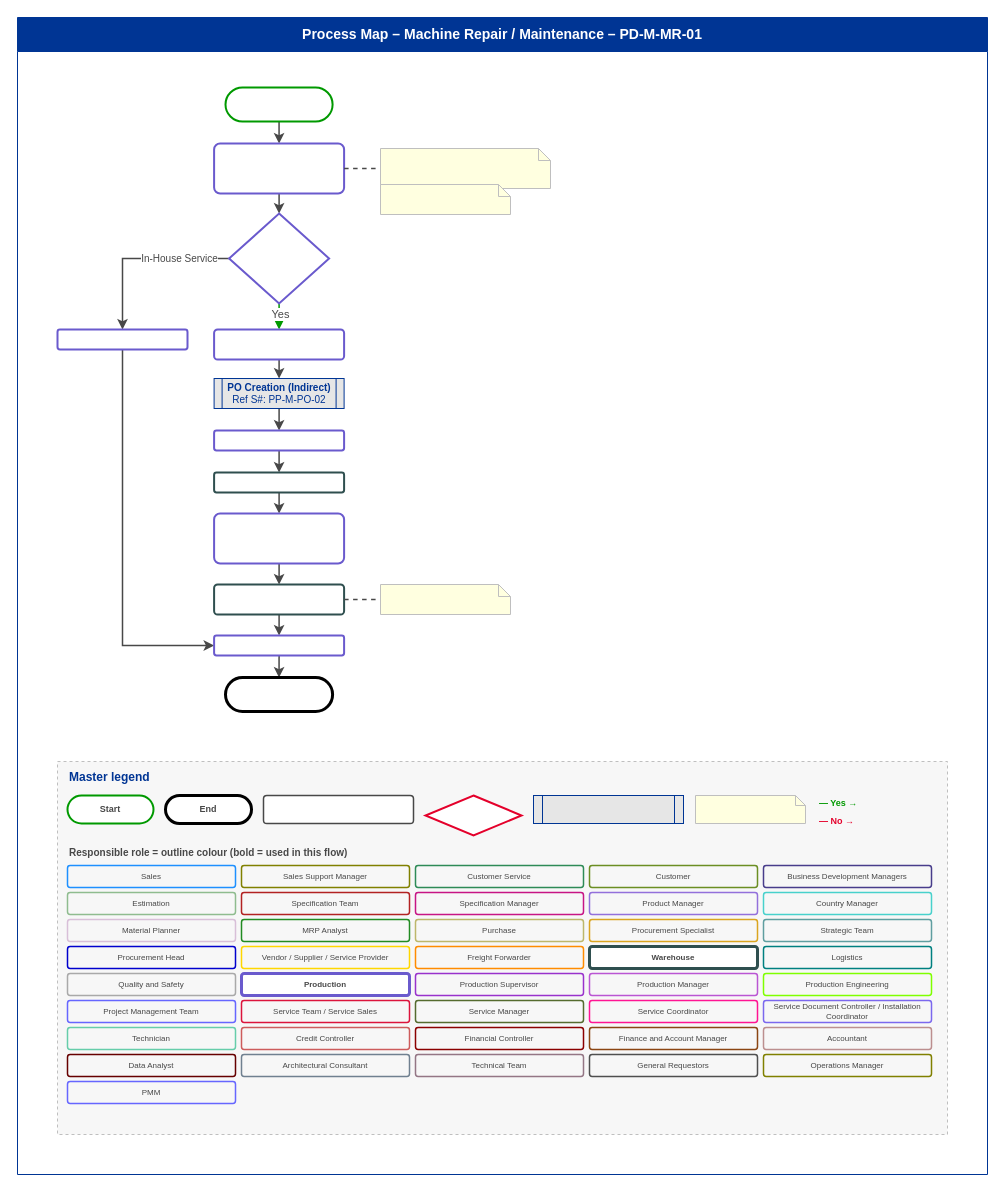
Image size: 1005x1192. Some labels were removed from this diagram. Each missing label, with the centre of its shape:
"Activity (outline = role)" belongs at point 338,809.
"Collect Machine/Tool (Inbound/Receiving)" belongs at point 279,599.
"Complete" belongs at point 279,694.
"Create Delivery Note" belongs at point 279,440.
"Decision" belongs at point 473,815.
"Follow Up on Status & Inform Logistics for Collection Upon Completion" belongs at point 279,538.
"Generate Purchase Requisition (PR)" belongs at point 279,344.
"Job to be done externally?" belongs at point 279,258.
"Lead Time: 0.5 Hr Processing Time: 0.17 Hr" belongs at point 445,599.
"Lead Time: 1Hr Processing Time: 0.5 Hr" belongs at point 445,199.
"Linked process (Ref ID)" belongs at point 608,809.
"Note / checklist" belongs at point 750,809.
"Perform Necessary Action" belongs at point 279,645.
"Report from Technician which indicates the need of spare parts." belongs at point 465,168.
"Request for Production Machine Repair, Maintenance, or Calibration" belongs at point 279,168.
"Schedule & Perform Job" belongs at point 122,339.
"Send Machine to Vendor" belongs at point 279,482.
"Start Process" belongs at point 278,104.
